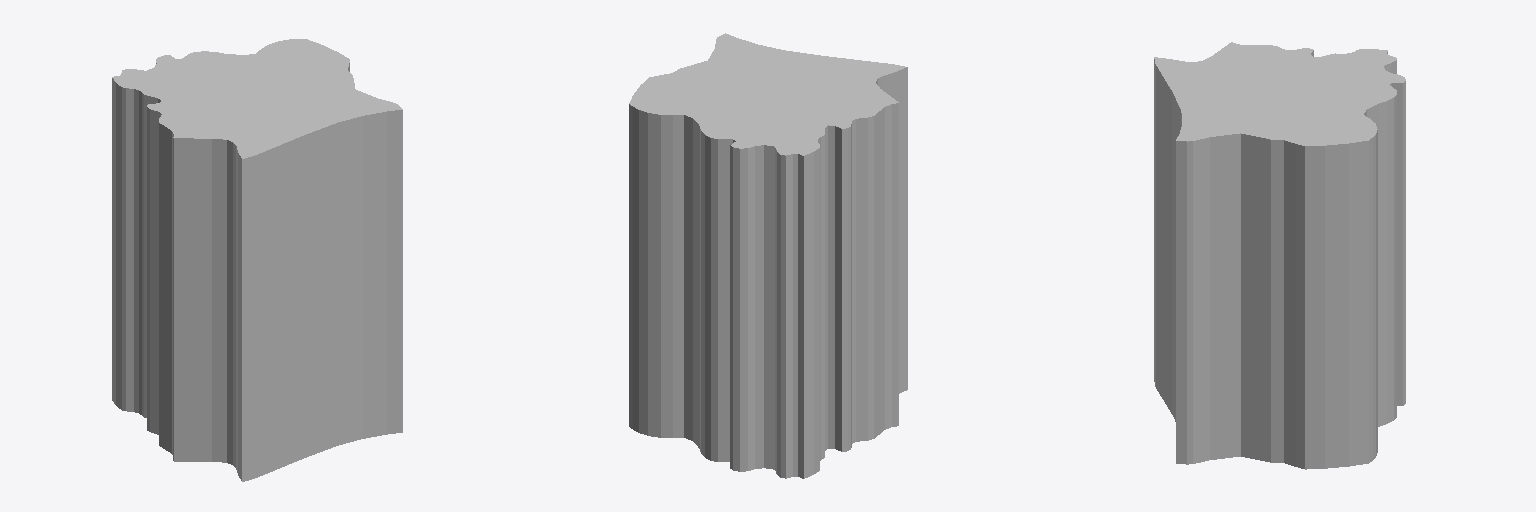
3 renders of one model, left to right at view 1: azimuth 30°, elevation 25°; view 2: azimuth 150°, elevation 25°; view 3: azimuth 270°, elevation 25°, orthographic.
Visible parts, largest first — view 1: CI.002_CUCurve.1862; view 2: CI.002_CUCurve.1862; view 3: CI.002_CUCurve.1862.
Part boxes in pixels (left/top/right/bottom): CI.002_CUCurve.1862: left=112, top=39, right=402, bottom=481; CI.002_CUCurve.1862: left=629, top=33, right=907, bottom=478; CI.002_CUCurve.1862: left=1154, top=42, right=1405, bottom=469.
Bounding box in the file's own units: 0.0345 × 0.05 × 0.0353.